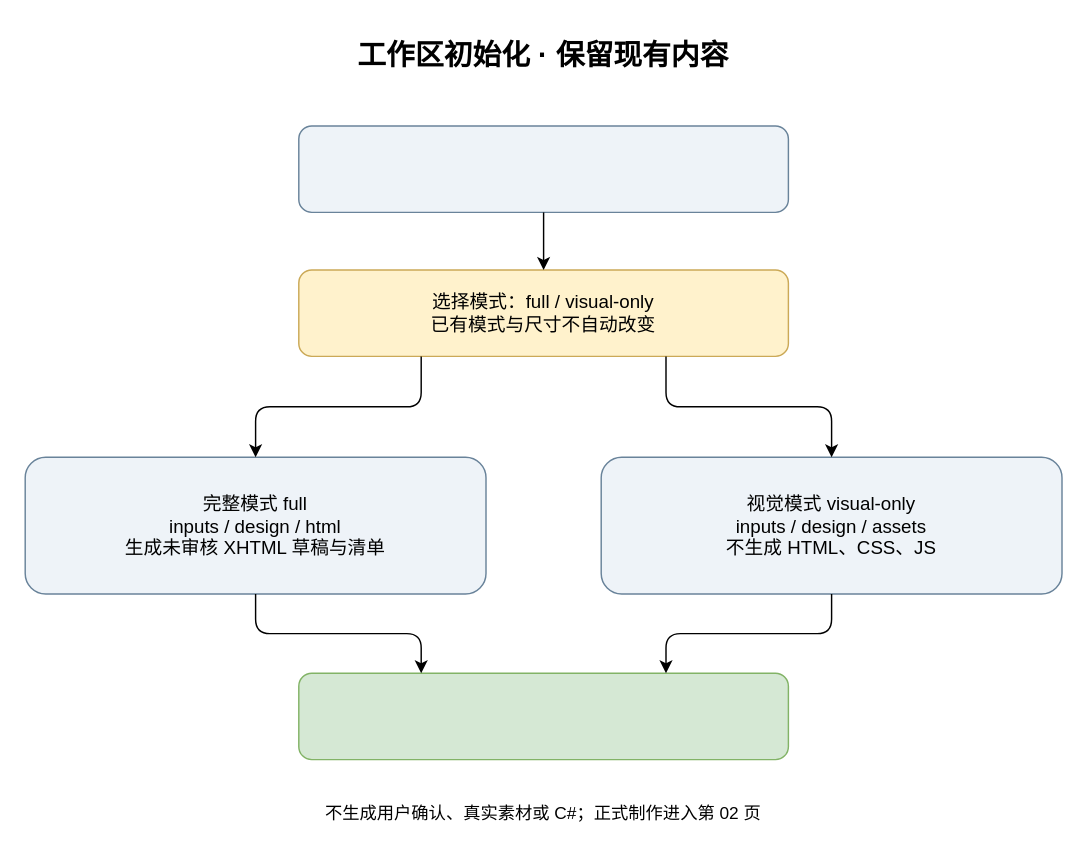
This 1087x863 diagram has some shape labels left out. The shapes that lost their labels are listed below. From the top down, each one's box as (x1, y1, x2, y2) in pixels, then its label:
(297, 125, 788, 212): 解析目录、Panel 名与已有配置 新工作区默认布局 1920×1080
(297, 672, 788, 760): 按模式检查结构，保留 draft-unapproved 仅初始化的请求到此完成
